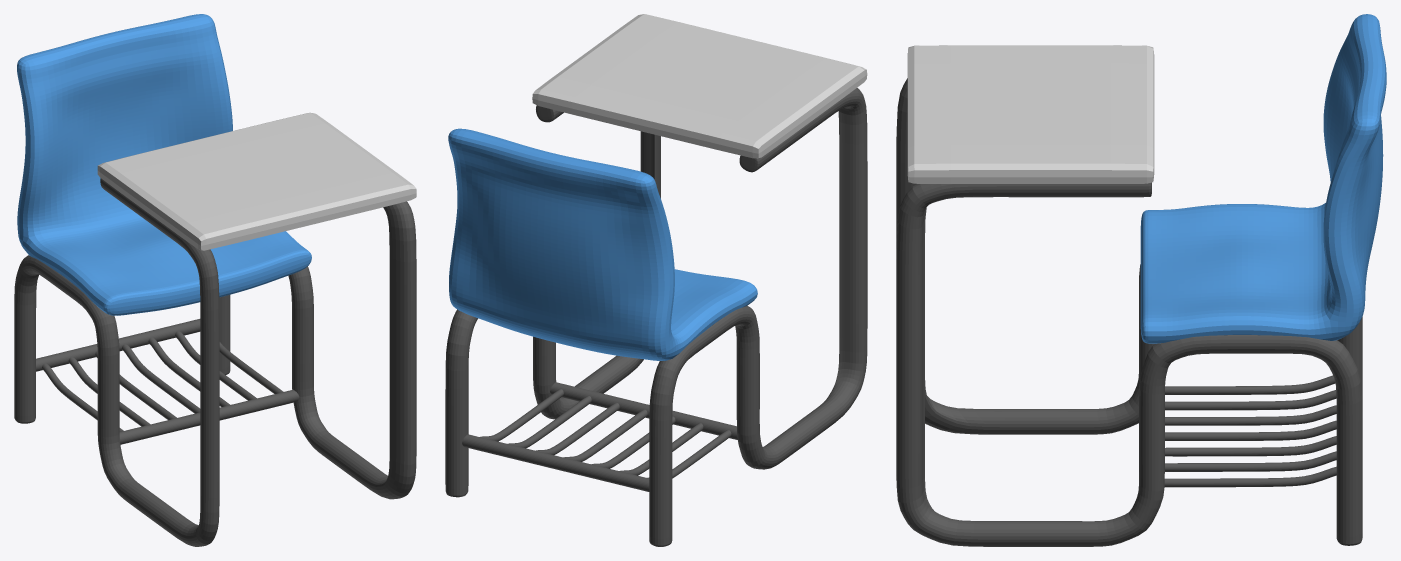
The model's file is classChair.fbx.
3 renders of one model, left to right at view 1: azimuth 30°, elevation 25°; view 2: azimuth 150°, elevation 25°; view 3: azimuth 270°, elevation 25°, orthographic. The views are drawn at different scales.
Visible parts, largest first — view 1: metal; view 2: metal; view 3: metal.
Part boxes in pixels (x1=…): metal: x1=14, y1=14, x2=416, y2=546; metal: x1=445, y1=14, x2=867, y2=546; metal: x1=896, y1=14, x2=1386, y2=546.
Bounding box in the file's own units: 487 × 768 × 805.
